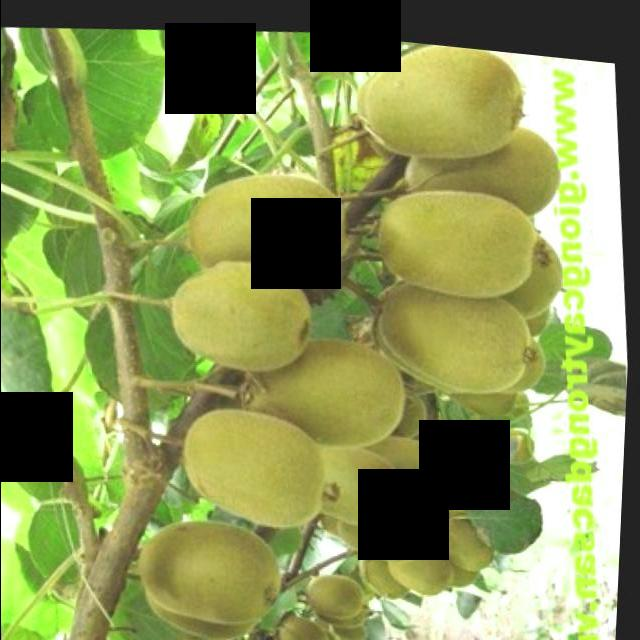kiwi: (355, 30, 527, 161), (237, 325, 412, 453), (375, 166, 540, 298), (180, 153, 351, 279), (180, 392, 335, 531), (165, 241, 321, 377), (377, 268, 543, 393), (392, 101, 566, 218), (138, 506, 288, 630), (296, 428, 411, 526), (361, 421, 461, 507), (338, 492, 433, 560), (390, 529, 461, 587), (434, 501, 500, 561), (441, 458, 512, 513), (306, 563, 367, 614), (362, 539, 416, 592), (126, 625, 276, 640), (282, 607, 338, 640)
